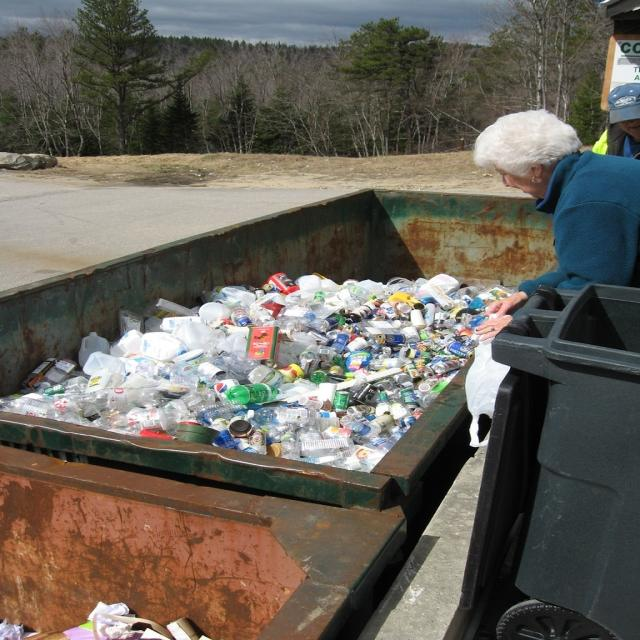Plastics: (0, 258, 495, 441)
